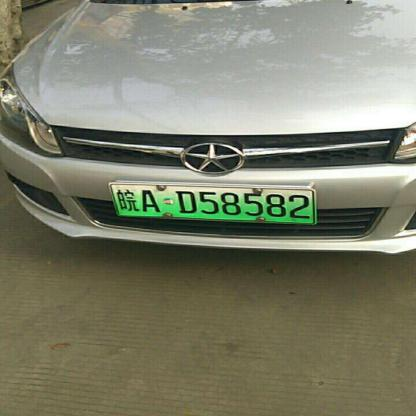lp: (109, 183, 314, 223)
